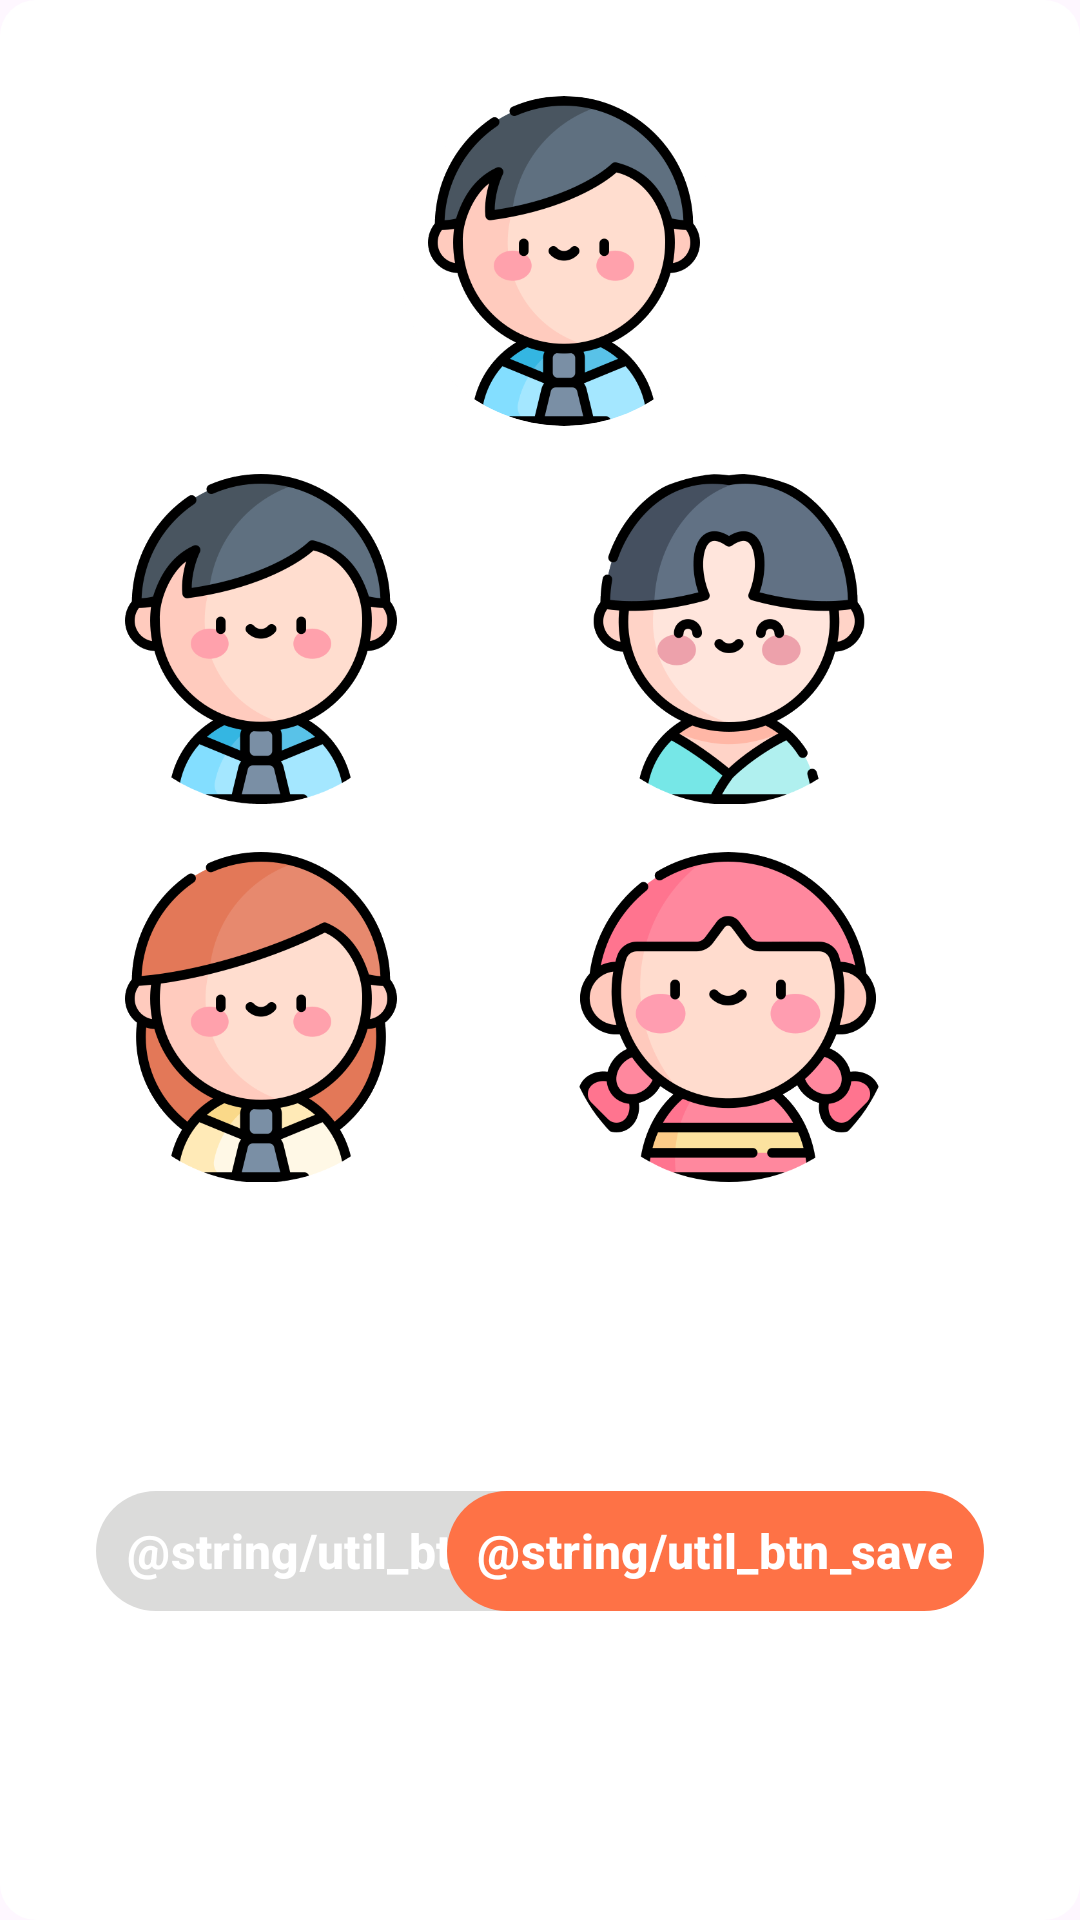

Screen size 1080 x 1920. Icon name, then its center in pixels as [x,y]:
person: [564,261], [261,639], [729,639], [261,1017], [729,1017]
